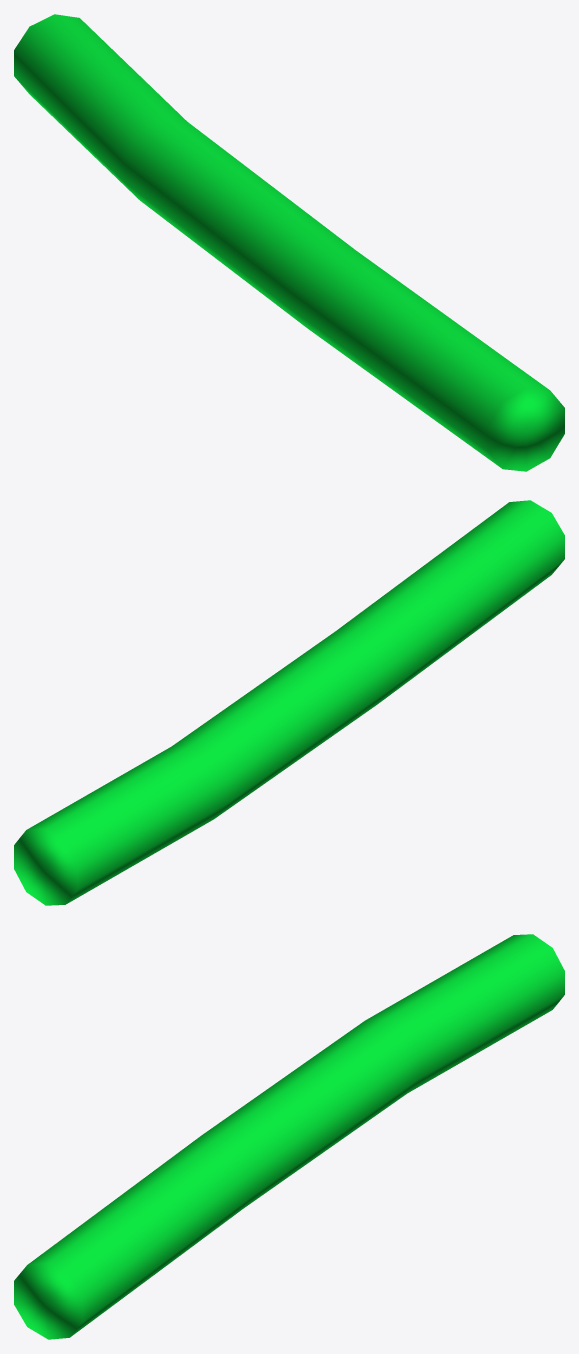
File: Pipe_Turn_C_Int.fbx
3 renders of one model, top to bottom at view 1: azimuth 30°, elevation 25°; view 2: azimuth 150°, elevation 25°; view 3: azimuth 330°, elevation 25°, orthographic. The views are drawn at different scales.
Visible parts, largest first — view 1: Pipe_Turn_C_Int; view 2: Pipe_Turn_C_Int; view 3: Pipe_Turn_C_Int.
Boxes of the visible parts, x1,y1,x2,y2 form: Pipe_Turn_C_Int: (14, 14, 564, 471); Pipe_Turn_C_Int: (14, 500, 564, 905); Pipe_Turn_C_Int: (14, 934, 564, 1339).
Bounding box in the file's own units: 0.2998 × 0.2243 × 2.45.
